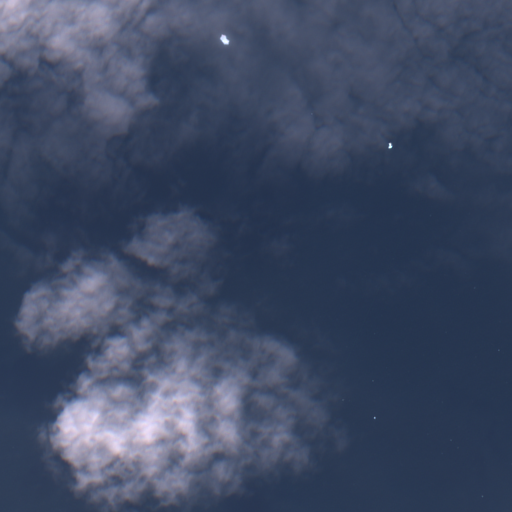Iceberg: (220, 34, 229, 44), (388, 142, 392, 148), (374, 416, 375, 418)
